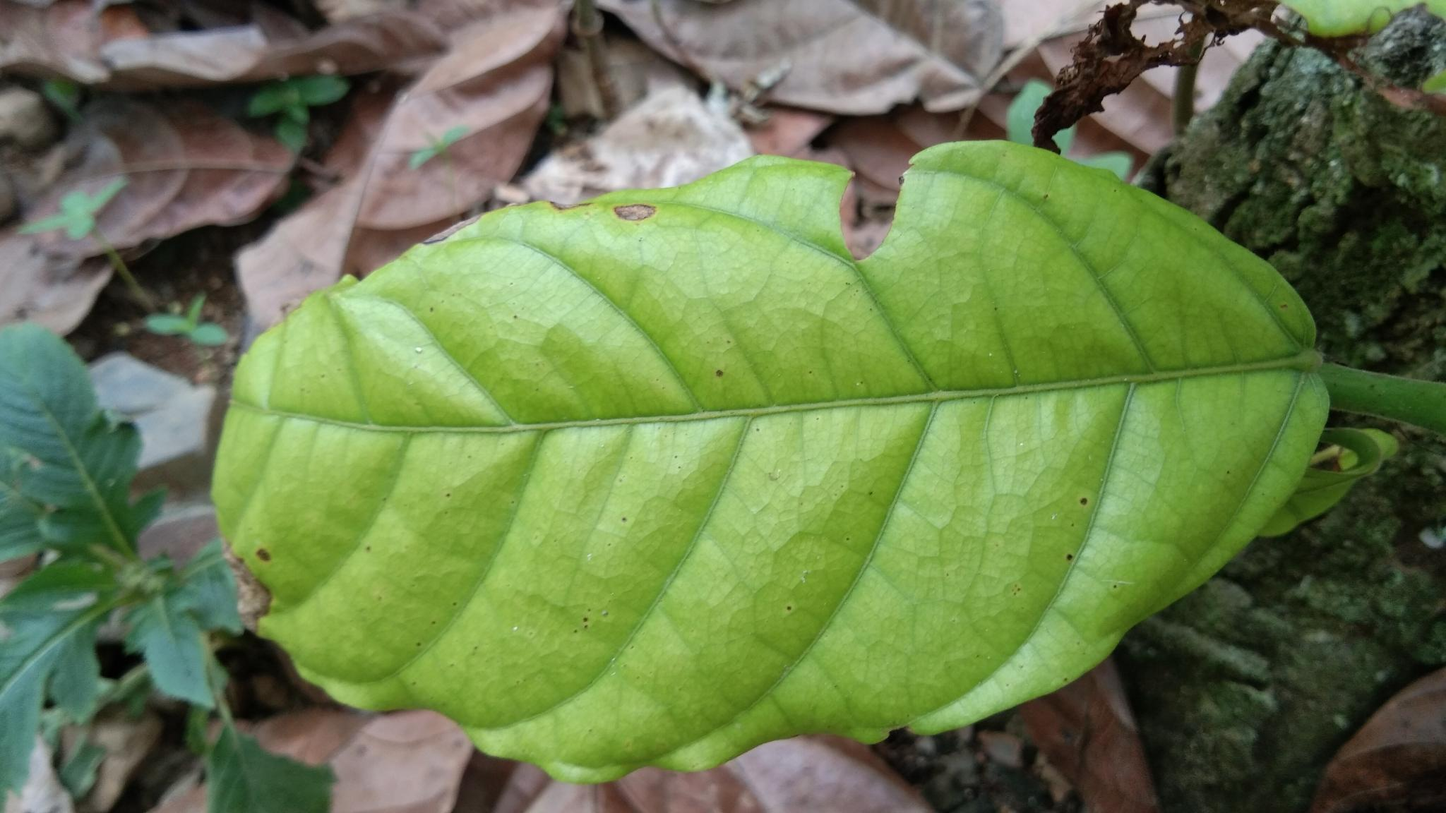Fosforo: (210, 136, 1331, 770)
